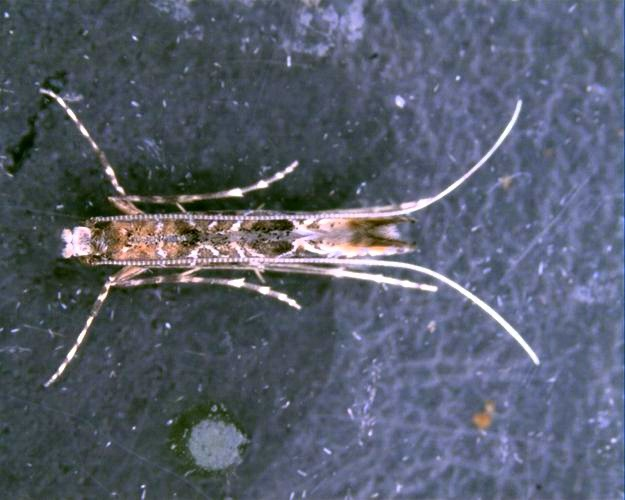Borer: (42, 140, 447, 304)
